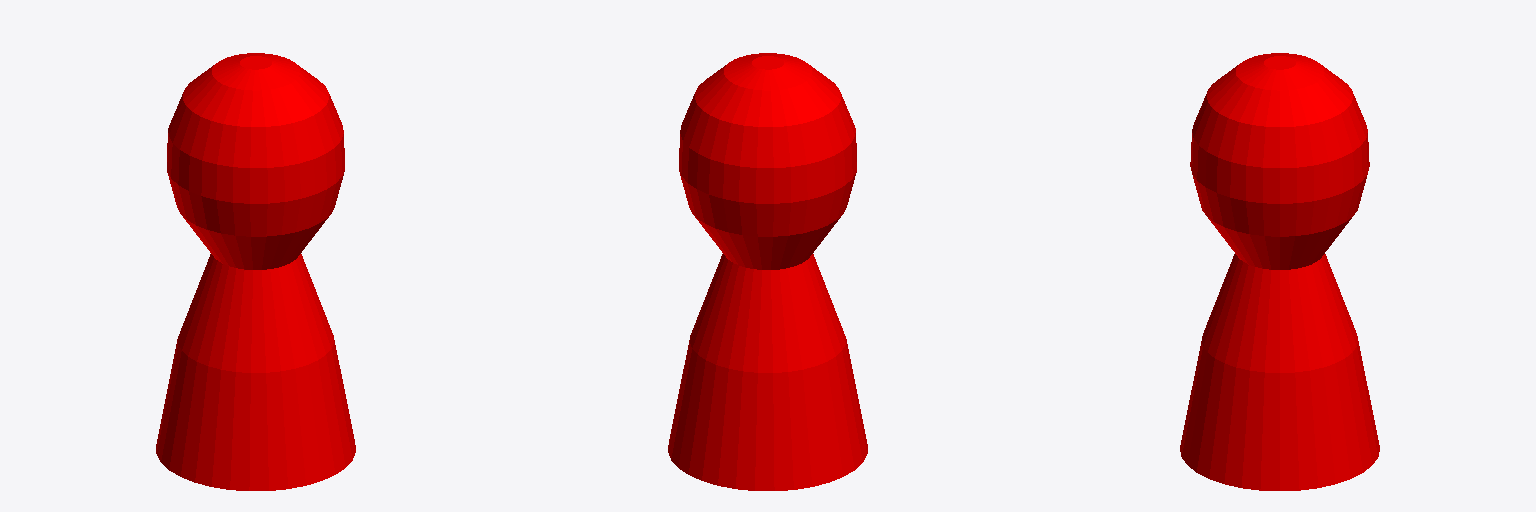
Rendered from red_pawn.obj.
3 views of the same model, side by side, from view 1: azimuth 30°, elevation 25°; view 2: azimuth 150°, elevation 25°; view 3: azimuth 270°, elevation 25° (orthographic).
Visible parts, largest first — view 1: Circle; view 2: Circle; view 3: Circle.
Part boxes in pixels (bbox=[...]): Circle: bbox=[156, 53, 355, 490]; Circle: bbox=[668, 53, 867, 490]; Circle: bbox=[1180, 53, 1379, 490].
Size of the model in its own units: 1.4 by 2.98 by 1.4.